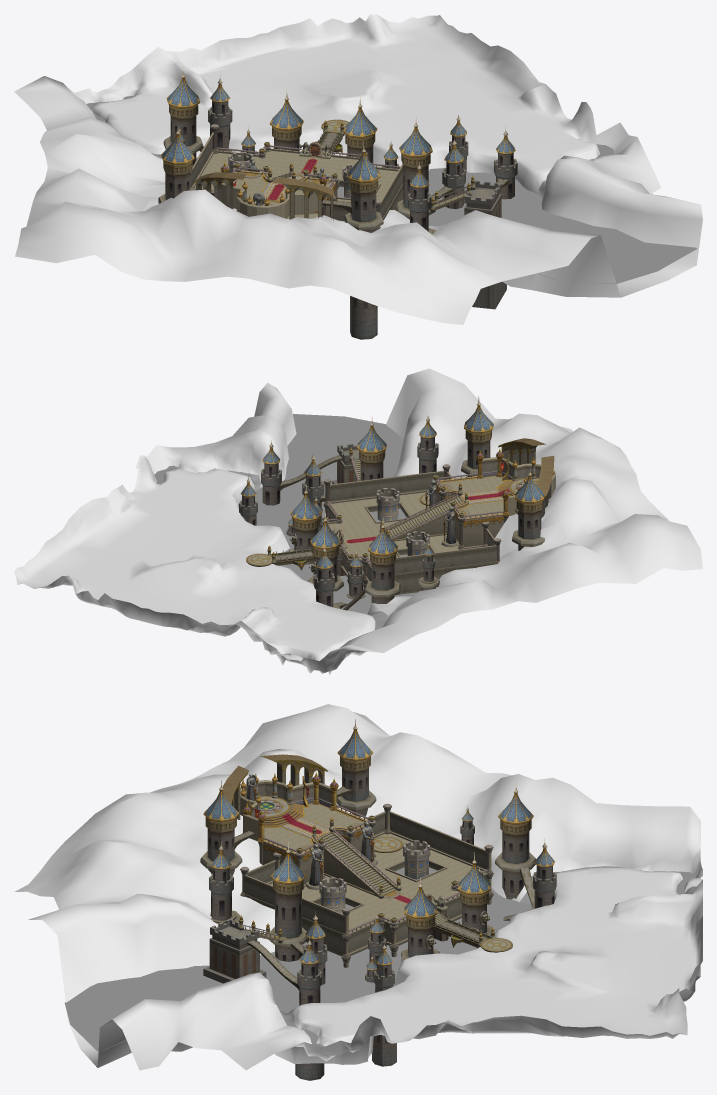
3 renders of one model, top to bottom at view 1: azimuth 30°, elevation 25°; view 2: azimuth 150°, elevation 25°; view 3: azimuth 270°, elevation 25°, orthographic. The views are drawn at different scales.
Visible parts, largest first — view 1: zc2_scene_ground, zhucheng, zc_lizhu_053, shuimian, zc_lizhu_037, zc_xiaoxpt005, zc_talou_004; view 2: zc2_scene_ground, zhucheng, zc_lizhu_053, shuimian, zc_lizhu_037, zc_talou_004; view 3: zc2_scene_ground, zhucheng, zc_lizhu_053, shuimian, zc_lizhu_037, zc_talou_004.
Part boxes in pixels (x1,y1,x2,y2): zc2_scene_ground: (14, 14, 702, 324); zhucheng: (158, 119, 506, 309); zc_lizhu_053: (163, 66, 517, 234); shuimian: (86, 96, 697, 283); zc_lizhu_037: (194, 158, 471, 220); zc_xiaoxpt005: (350, 296, 377, 339); zc_talou_004: (228, 151, 351, 198); zc2_scene_ground: (14, 368, 702, 675); zhucheng: (246, 396, 555, 610); zc_lizhu_053: (239, 414, 469, 608); shuimian: (154, 414, 417, 665); zc_lizhu_037: (345, 438, 554, 543); zc_talou_004: (376, 488, 429, 555); zc2_scene_ground: (15, 704, 702, 1070); zhucheng: (200, 719, 534, 983); zc_lizhu_053: (209, 783, 556, 1080); shuimian: (64, 866, 695, 1053); zc_lizhu_037: (222, 754, 446, 939); zc_talou_004: (319, 840, 430, 913).
Bounding box in the file's own units: 24020 × 7399 × 22695.
